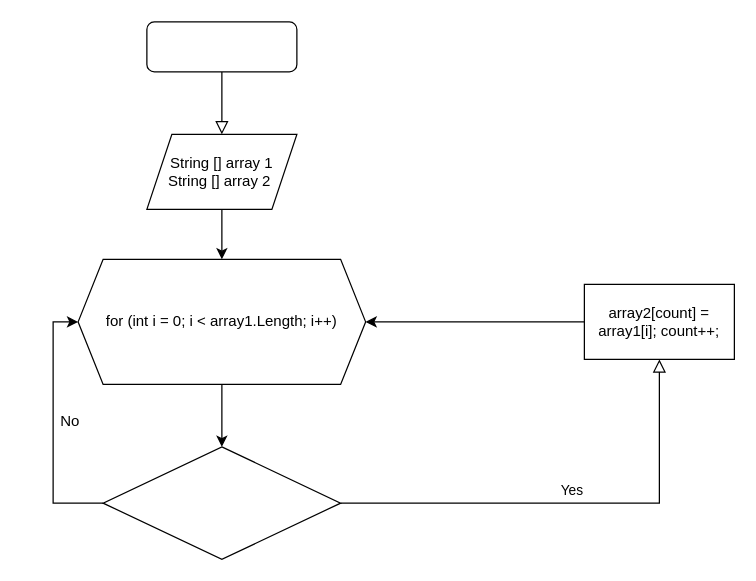
Image size: 756x581. Some labels were removed from this diagram. Each missing label, with the box of its shape:
if(array1[i].Length <= 3): (102, 446, 341, 559)
SecondArrayWihtIf: (146, 21, 297, 72)
